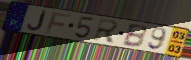5: (74, 15, 95, 40)
9: (147, 28, 168, 52)
B: (121, 24, 148, 49)
F: (43, 12, 73, 35)
J: (27, 10, 48, 32)
R: (92, 18, 121, 44)
